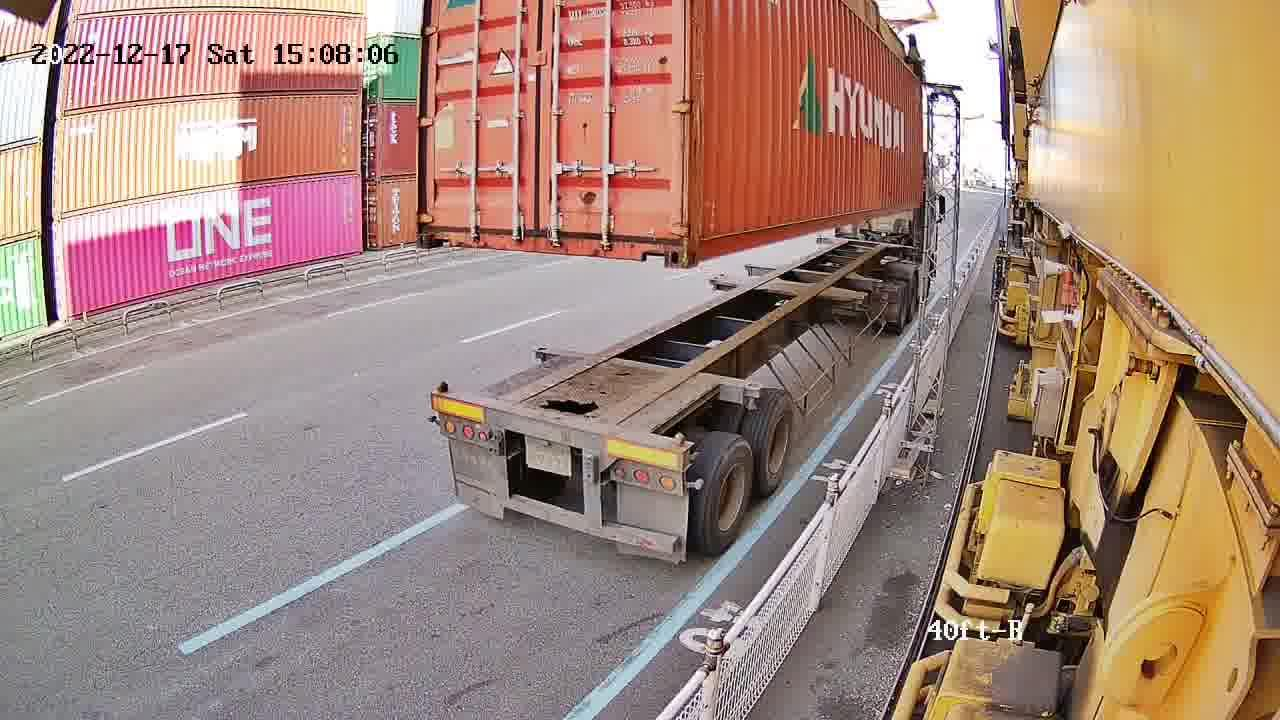Chassis: (431, 398, 685, 475)
Cone: (666, 432, 690, 470), (431, 380, 453, 412)
Hole_L: (684, 214, 725, 268), (414, 210, 459, 249)
Hole_R: (631, 218, 686, 267)
Tire: (705, 443, 756, 549), (757, 396, 797, 488)
